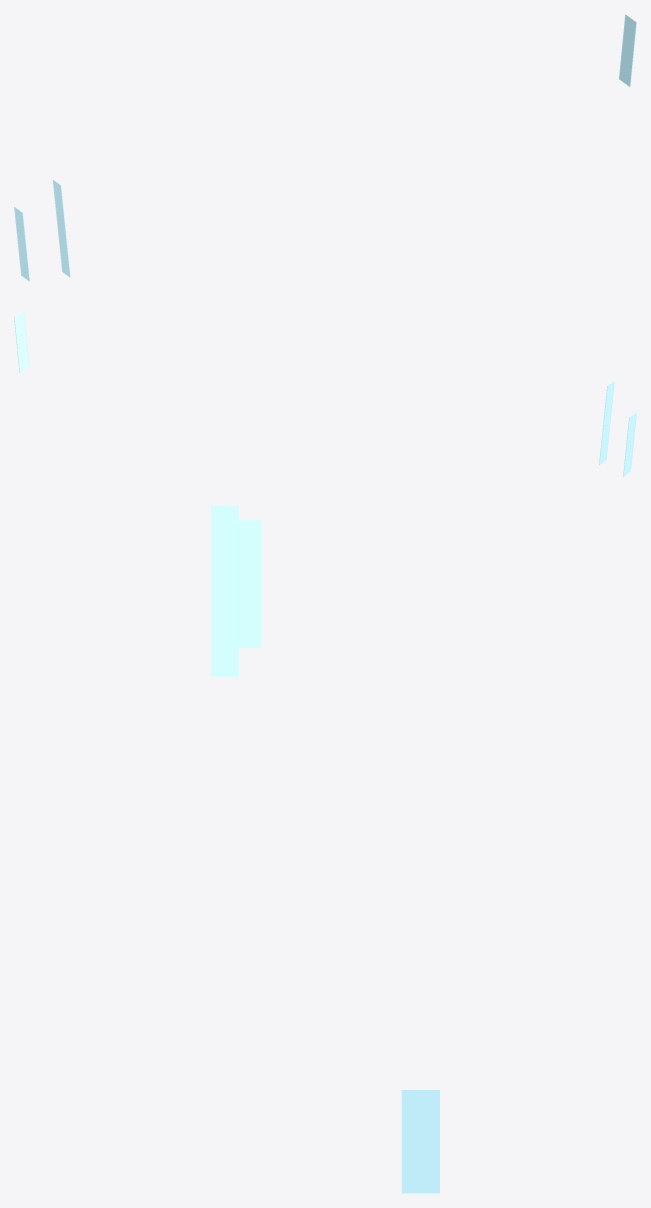
File: WaterfallsFar.fbx
3 views of the same model, one above another, from view 1: azimuth 30°, elevation 25°; view 2: azimuth 150°, elevation 25°; view 3: azimuth 270°, elevation 25° (orthographic). The views are drawn at different scales.
Parts seen in each view (by area): view 1: WaterfallFar0.001; view 2: WaterfallFar0.001; view 3: WaterfallFar0.001.
Part boxes in pixels (x1,y1,x2,y2): WaterfallFar0.001: (14,14,636,281); WaterfallFar0.001: (14,310,636,476); WaterfallFar0.001: (211,505,439,1193).
Size of the model in its own units: 42908 by 5867 by 7443.
